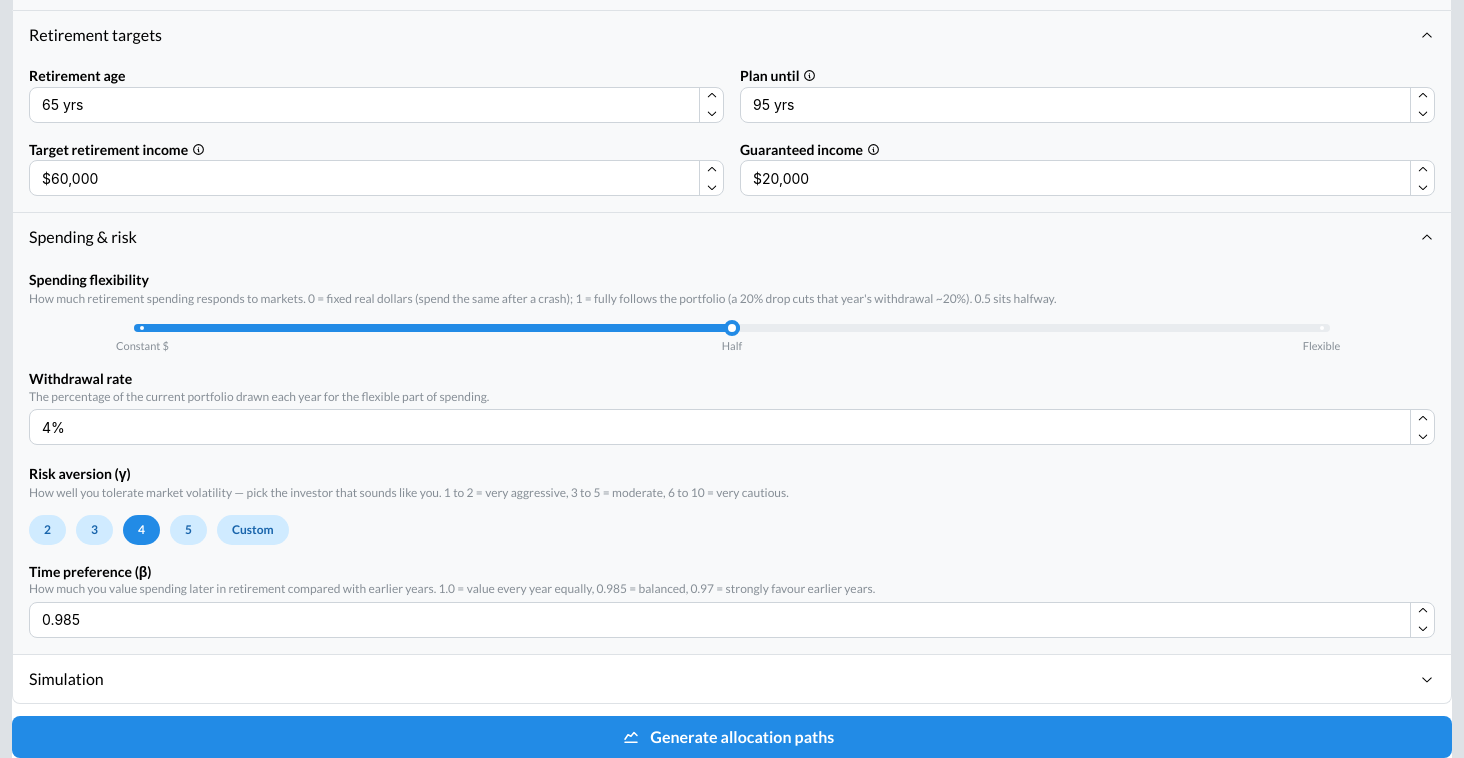
Test: glide-path InputForm guidance › keeps optional and advanced detail in helper popovers
(page scrolled)
Expected: the button named "more information about guaranteed income" is shown, [867,143,880,156]
Click the button "Simulation": (66, 678) [13,655,1451,704]
(page scrolled)
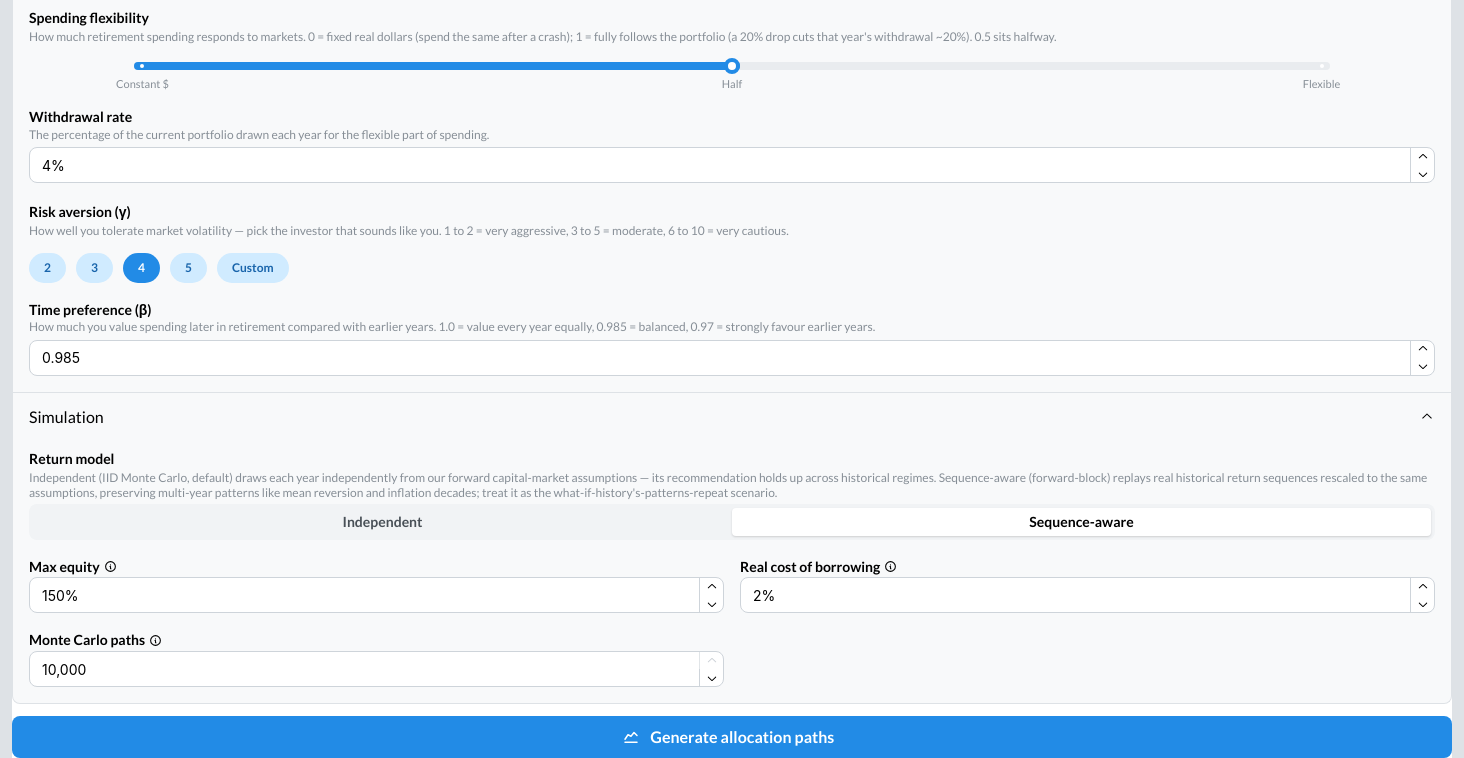
Expected: the button named "more information about max equity" is shown, [104,560,117,573]
Expected: the button named "more information about monte carlo paths" is shown, [149,634,162,647]
